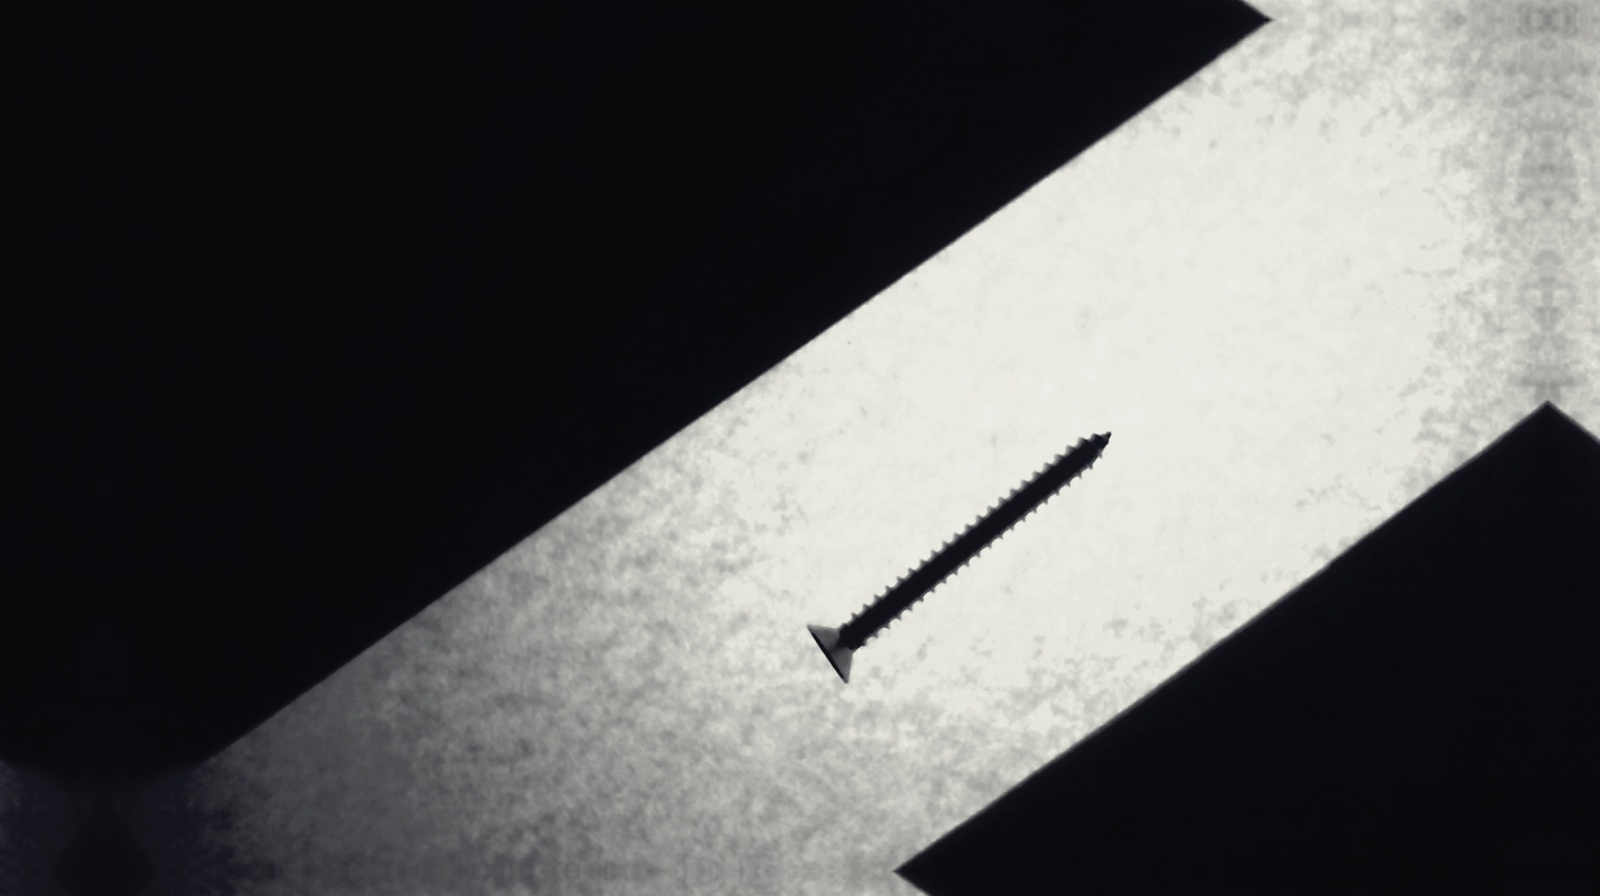S002: (799, 408, 1126, 696)
